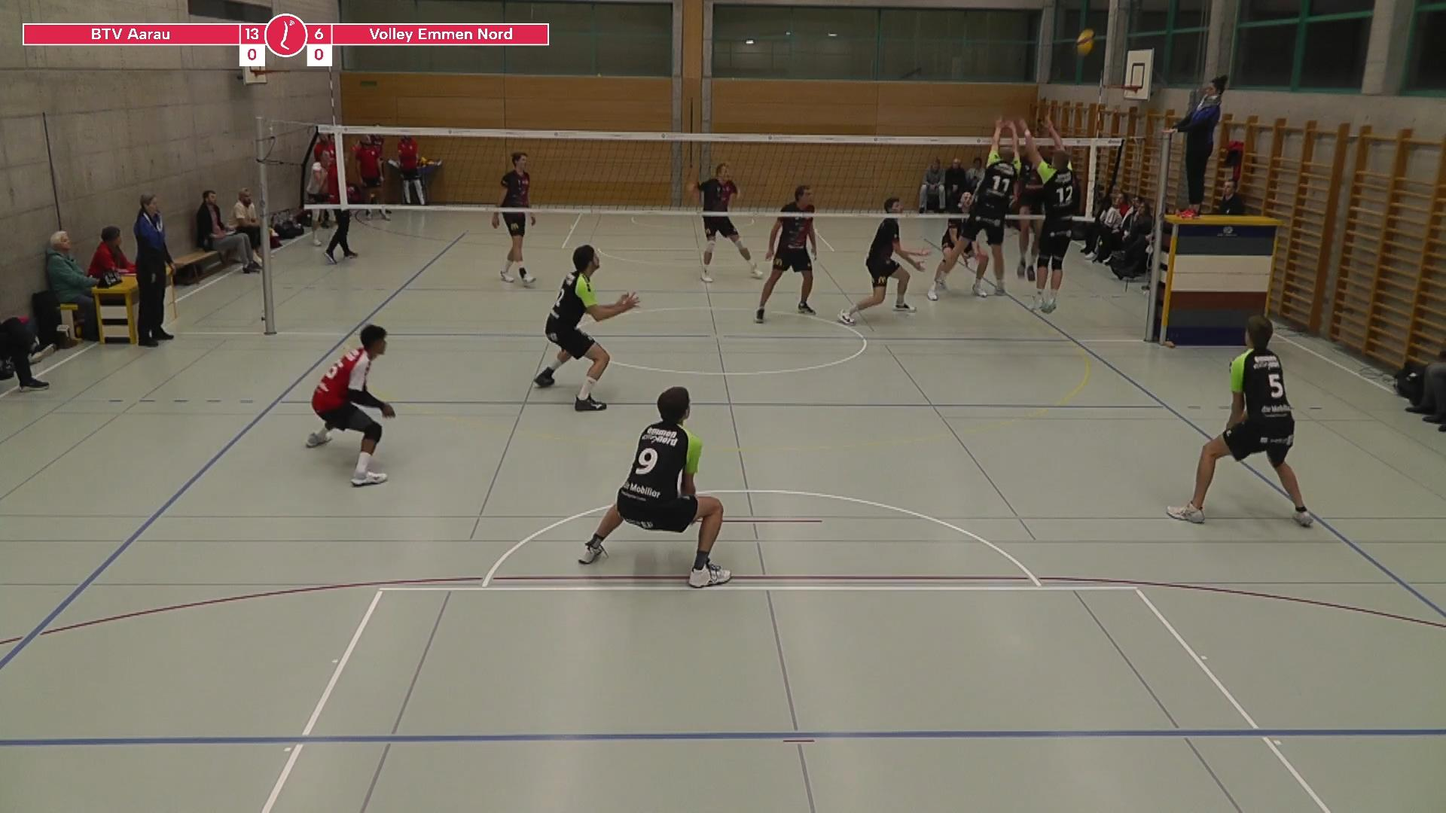attacco: (997, 117, 1043, 292)
muro: (1002, 114, 1098, 325), (933, 115, 1037, 304)
